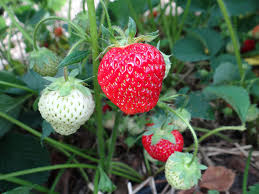strawberry: (97, 36, 165, 115), (143, 121, 182, 162)
